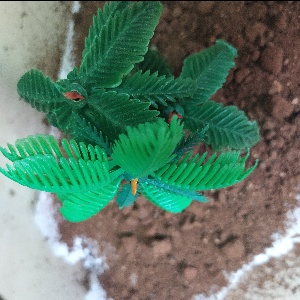plant: (5, 12, 257, 225)
